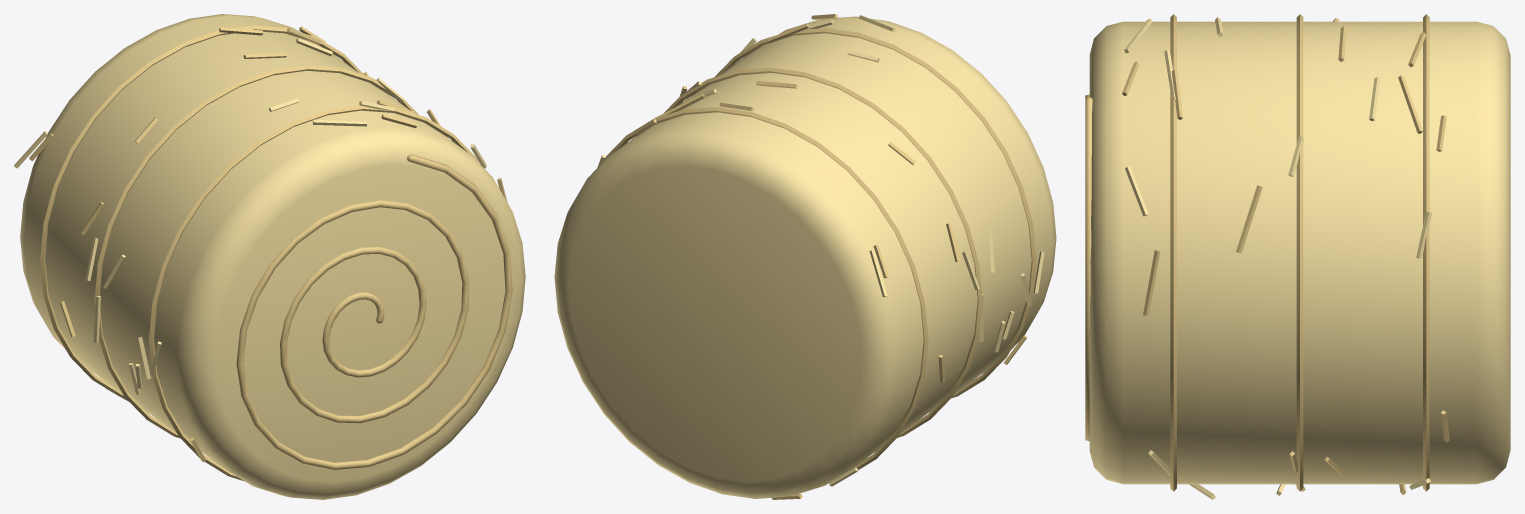
Rendered from bg_haybale.glb.
3 views of the same model, side by side, from view 1: azimuth 30°, elevation 25°; view 2: azimuth 150°, elevation 25°; view 3: azimuth 270°, elevation 25° (orthographic). The views are drawn at different scales.
Parts seen in each view (by area): view 1: bg_haybale; view 2: bg_haybale; view 3: bg_haybale.
Boxes of the visible parts, box(x1,y1,x2,y2) form: bg_haybale: box(14, 14, 525, 499); bg_haybale: box(554, 14, 1056, 499); bg_haybale: box(1085, 14, 1510, 499).
Size of the model in its own units: 1.14 by 1.16 by 1.01.
